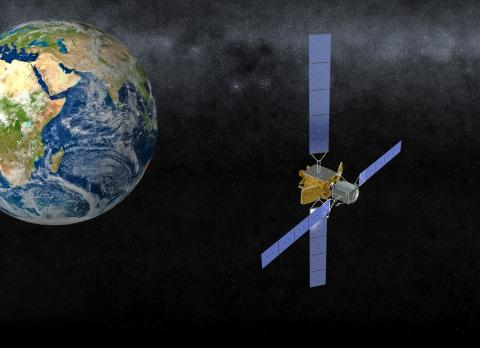antenna: (300, 183, 321, 206), (335, 161, 345, 181)
body: (301, 163, 339, 199)
solar: (261, 198, 332, 270), (307, 32, 332, 156), (358, 140, 403, 187), (309, 207, 327, 289)
